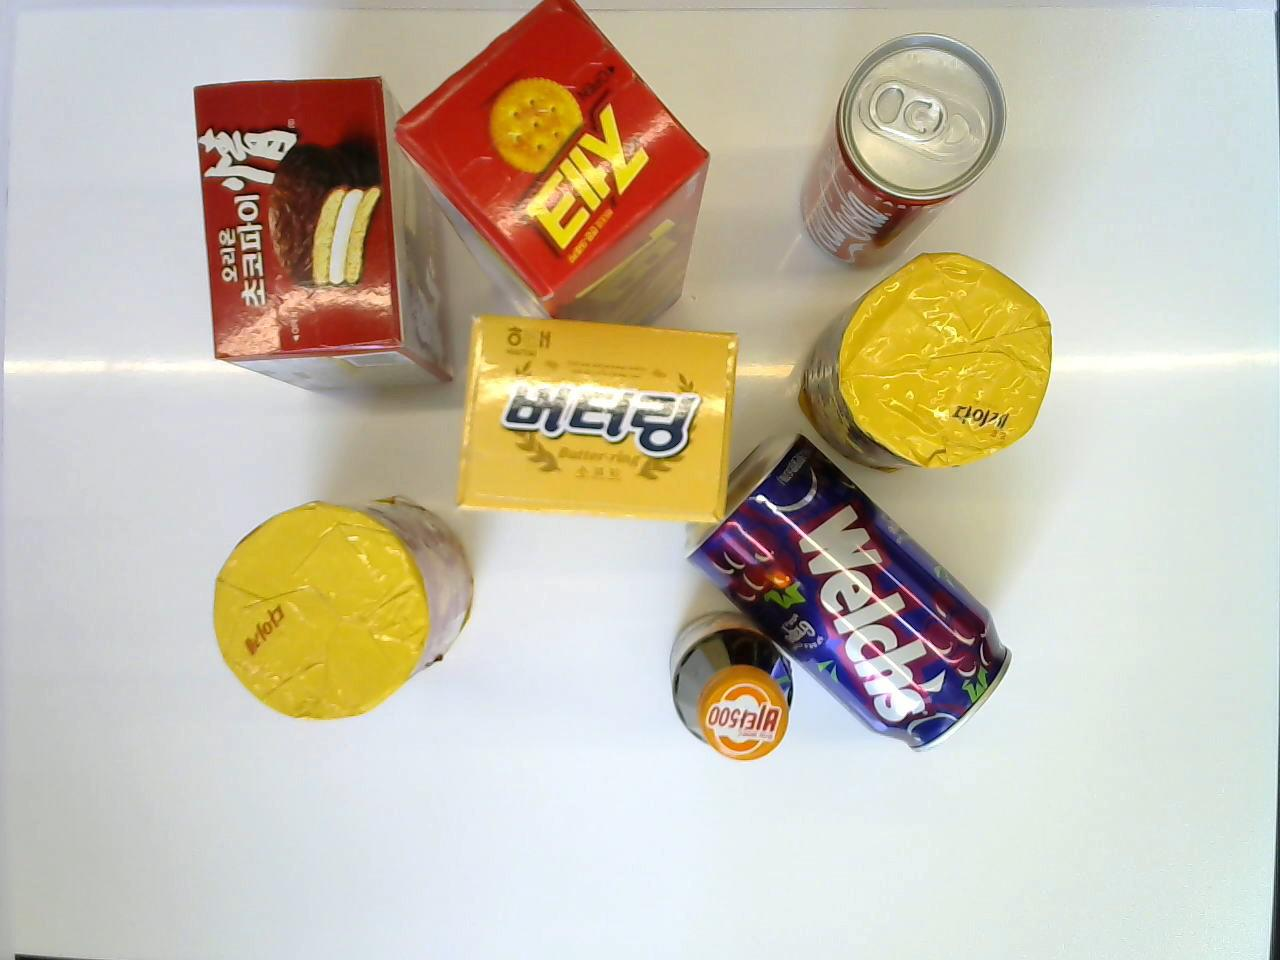buttering: (456, 311, 741, 527)
chocopie: (191, 74, 454, 403)
coke: (795, 29, 1004, 270)
diget_choco: (799, 249, 1052, 479)
diget_ori: (211, 490, 472, 722)
vita500: (661, 609, 802, 763)
welchs: (684, 427, 1024, 756)
zec: (395, 0, 713, 350)
